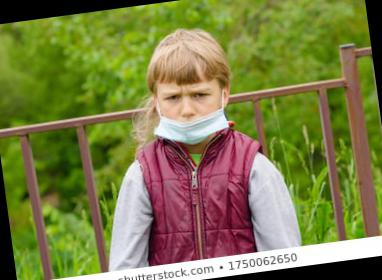mask_weared_incorrect: (155, 82, 224, 146)
